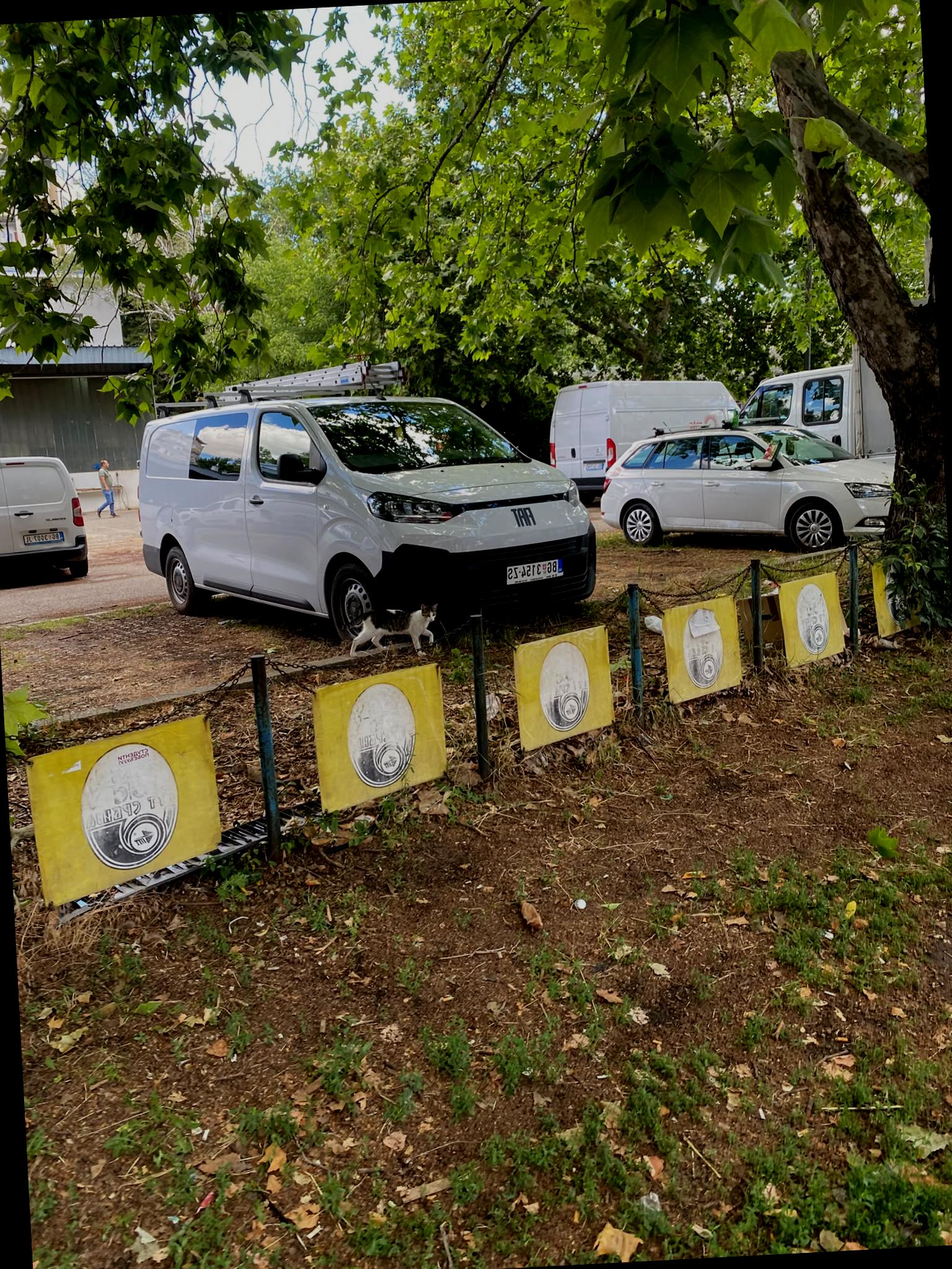macka: (346, 603, 441, 657)
